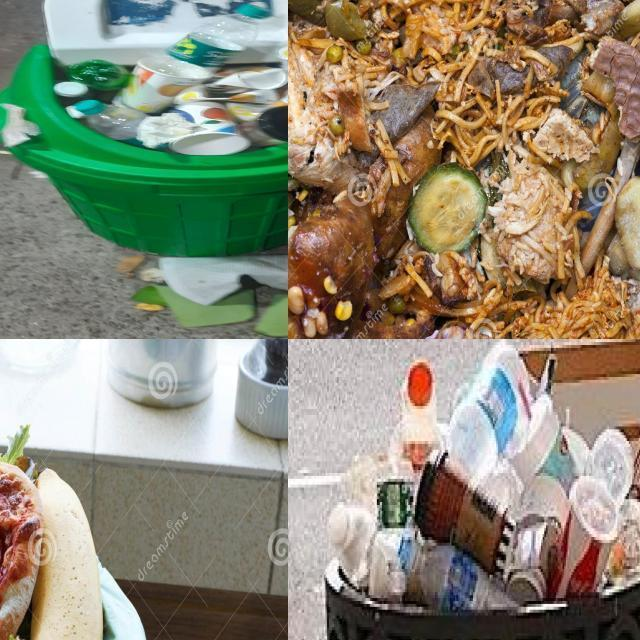Disposable: (414, 451, 506, 572), (549, 475, 619, 597), (513, 392, 589, 494), (236, 106, 288, 147)
Garbage: (288, 0, 640, 339), (328, 342, 640, 610), (35, 12, 288, 156)
Plastic: (52, 82, 87, 97)
Plastic_bottle: (447, 339, 532, 483), (398, 528, 517, 613), (149, 4, 272, 79), (399, 359, 439, 471), (327, 502, 376, 589), (72, 101, 152, 148), (587, 429, 634, 506), (66, 59, 131, 90)
Plastic_wraper: (225, 90, 288, 122), (234, 92, 255, 98), (250, 159, 255, 162)
